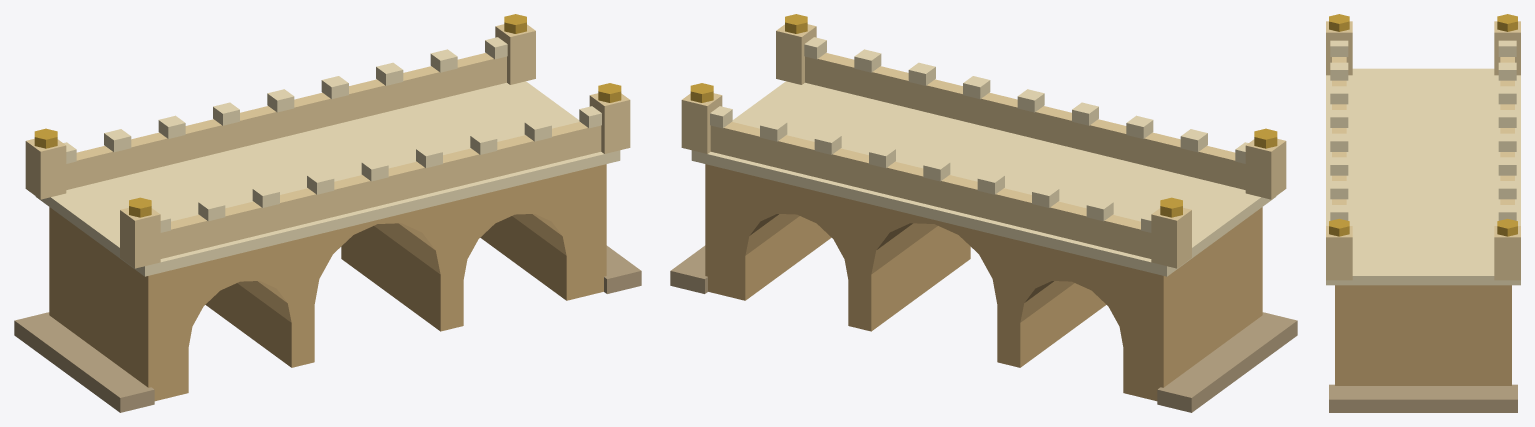
File: bridge_stone.fbx
3 renders of one model, left to right at view 1: azimuth 30°, elevation 25°; view 2: azimuth 150°, elevation 25°; view 3: azimuth 270°, elevation 25°, orthographic. The views are drawn at different scales.
Visible parts, largest first — view 1: bridge_stone; view 2: bridge_stone; view 3: bridge_stone.
Part boxes in pixels (bbox=[...]): bridge_stone: bbox=[14, 14, 641, 412]; bridge_stone: bbox=[670, 14, 1297, 412]; bridge_stone: bbox=[1326, 14, 1520, 412].
Size of the model in its own units: 18.2 by 6.65 by 6.6.
Materials: 1 (1 with a texture image).
